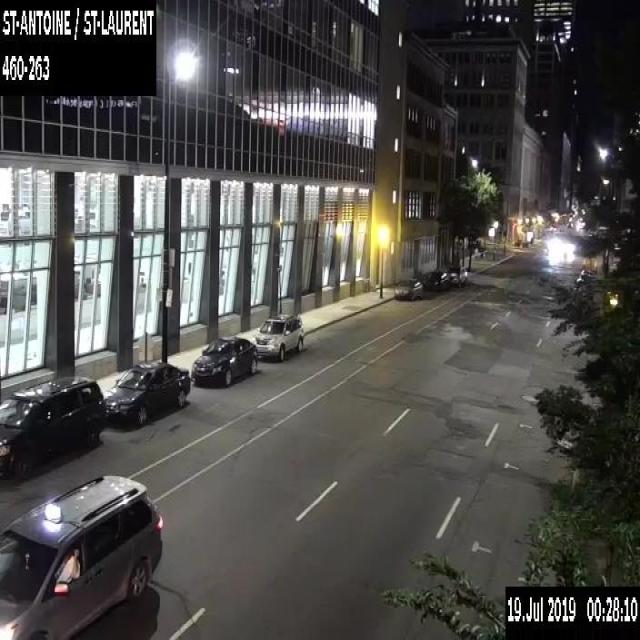construction: (134, 329, 156, 362), (581, 258, 597, 268)
vehicle: (0, 472, 165, 639), (0, 374, 107, 480), (101, 360, 190, 427), (190, 335, 258, 386), (251, 312, 303, 358), (393, 277, 422, 300), (424, 270, 451, 291), (444, 265, 467, 287), (574, 268, 596, 283)
